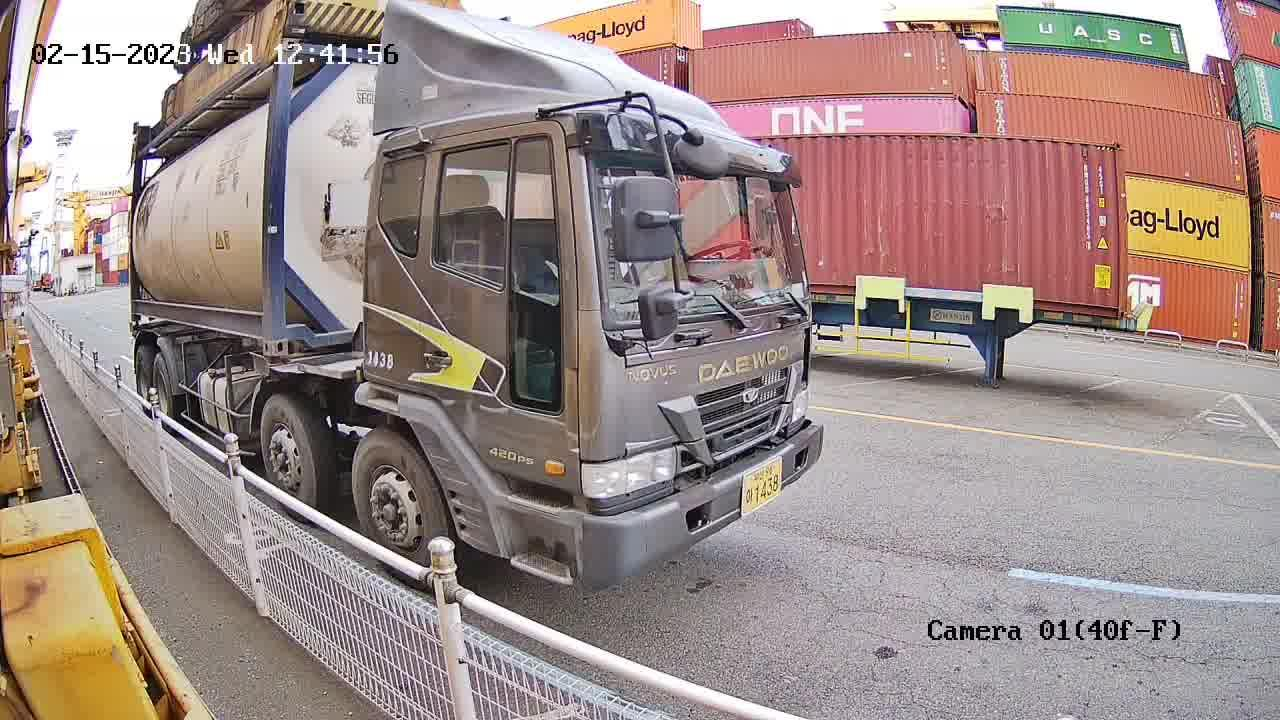Cone: (262, 354, 288, 381)
Hole_L: (270, 314, 311, 356)
Hole_R: (235, 309, 272, 357)
Tire: (349, 435, 449, 558), (261, 395, 316, 503)
